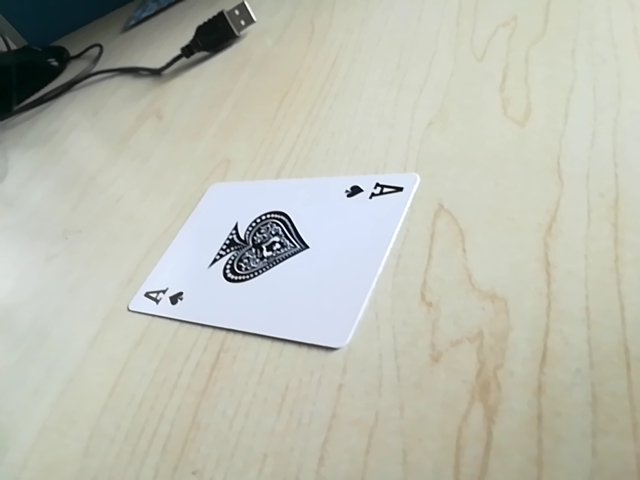ht a: (338, 175, 411, 206), (128, 284, 194, 317)
